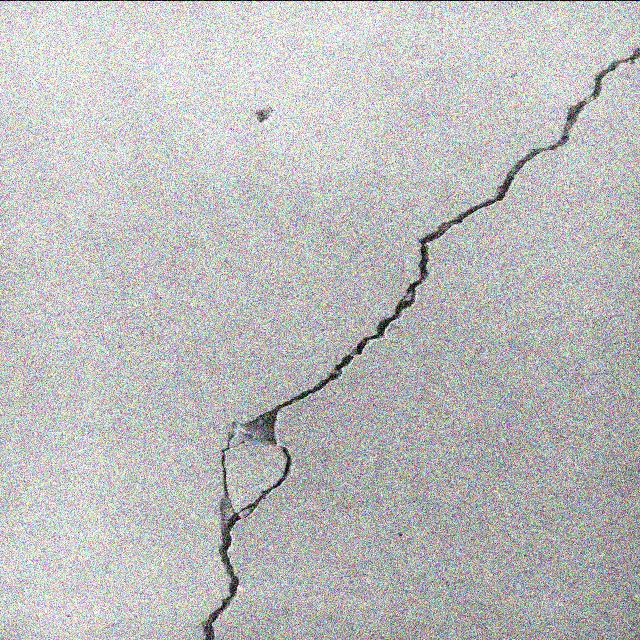SurfaceCrack: (166, 4, 640, 640)
